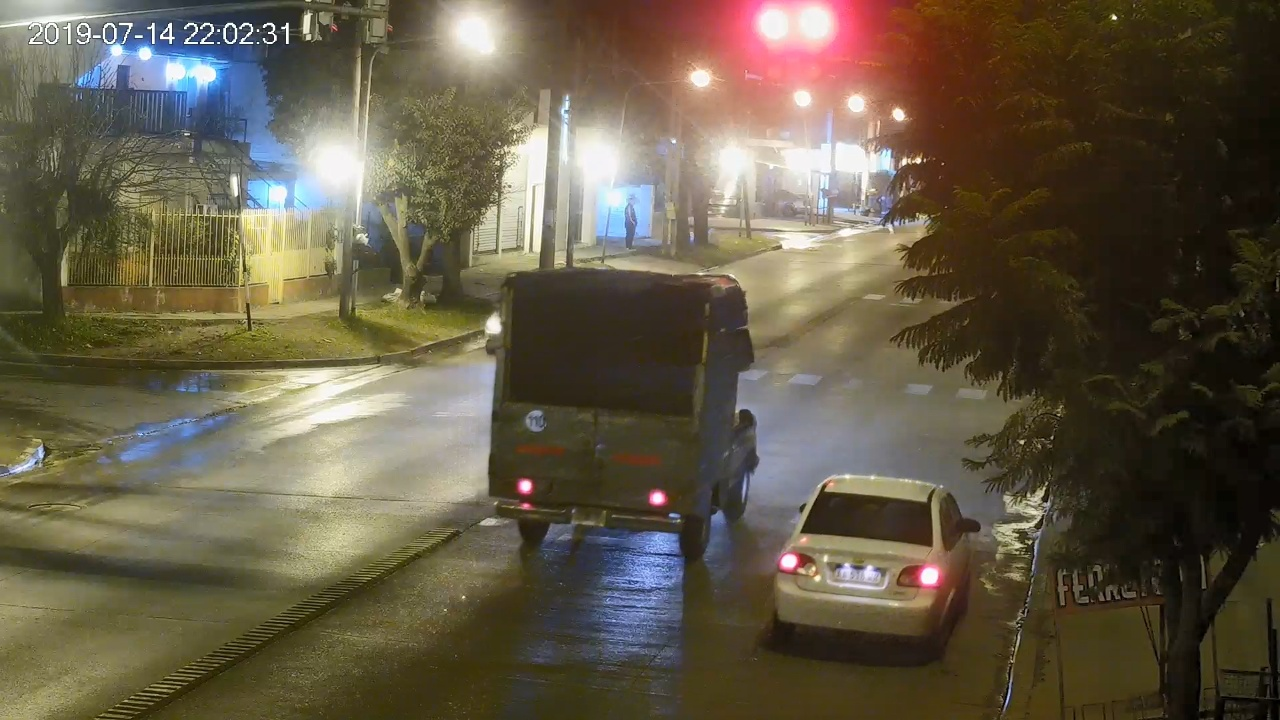car: (772, 475, 981, 658)
traffic light: (761, 9, 785, 79), (803, 9, 825, 79)
truck: (488, 271, 759, 560)
